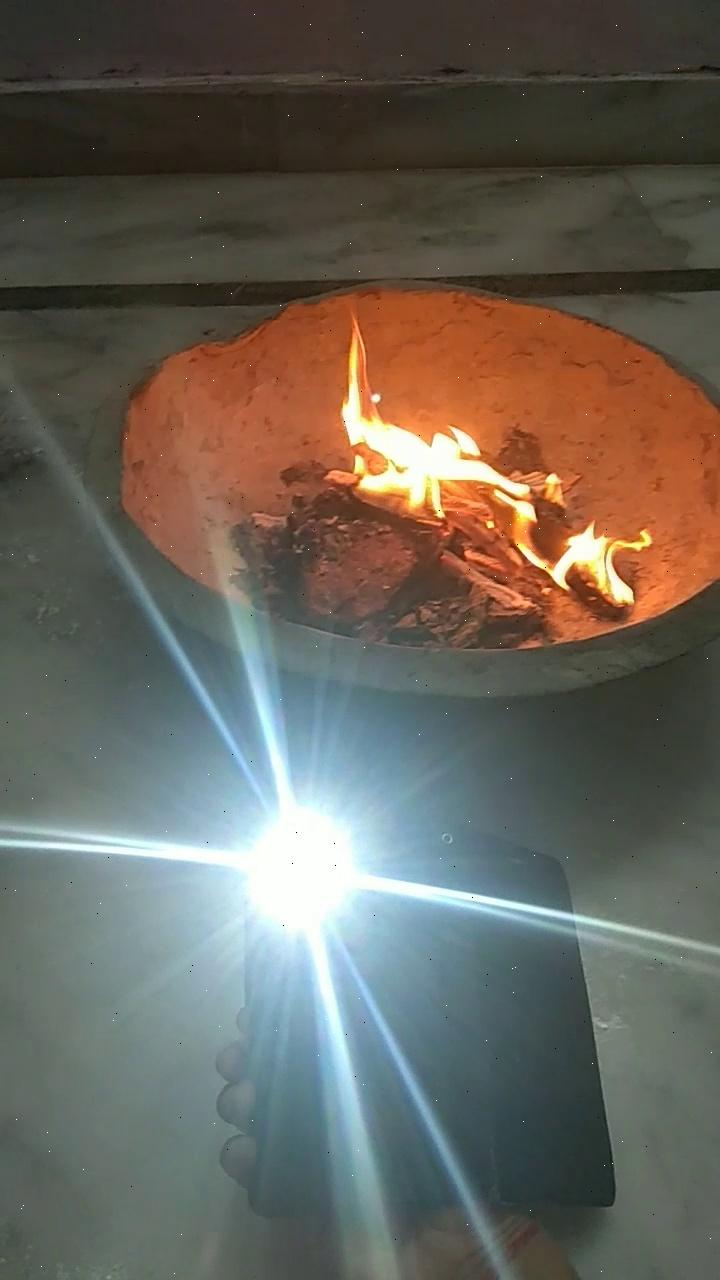fire: (305, 327, 650, 641)
